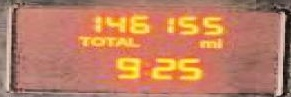1: (162, 14, 173, 34), (91, 13, 100, 33)
2: (149, 56, 173, 79)
4: (102, 13, 124, 33)
5: (176, 56, 200, 79), (198, 14, 222, 34), (173, 15, 198, 34)
6: (126, 13, 149, 33)
9: (113, 55, 140, 79)
X: (198, 39, 216, 48), (75, 34, 89, 45), (126, 35, 140, 46), (89, 35, 102, 45), (102, 35, 113, 45), (116, 35, 125, 45), (140, 60, 146, 75), (216, 37, 220, 47)
